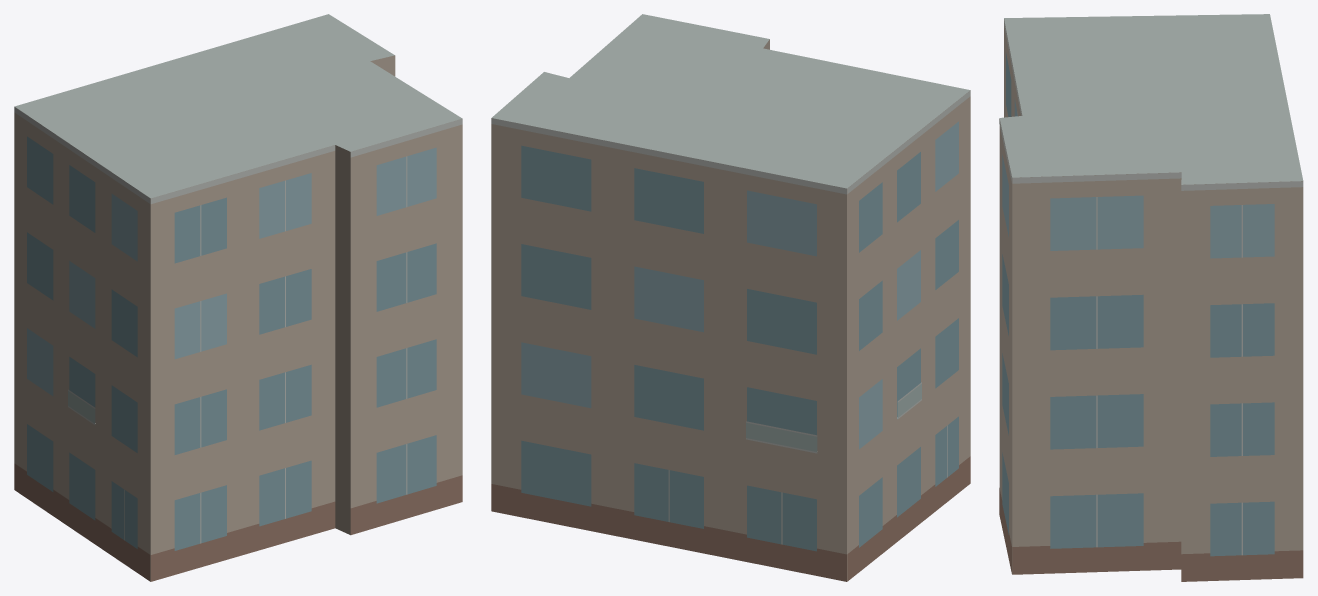
The model's file is survey-upis-33044075.glb.
The picture shows the model from 3 angles, left to right: view 1: azimuth 30°, elevation 25°; view 2: azimuth 150°, elevation 25°; view 3: azimuth 270°, elevation 25°; orthographic projection. The views are drawn at different scales.
Parts seen in each view (by area): view 1: survey-upis-33044075.tmp; view 2: survey-upis-33044075.tmp; view 3: survey-upis-33044075.tmp.
Part boxes in pixels (<box>): survey-upis-33044075.tmp: <box>14,14,462,581</box>; survey-upis-33044075.tmp: <box>491,14,970,581</box>; survey-upis-33044075.tmp: <box>999,14,1303,581</box>.
Size of the model in its own units: 14.78 by 16.01 by 11.11.
